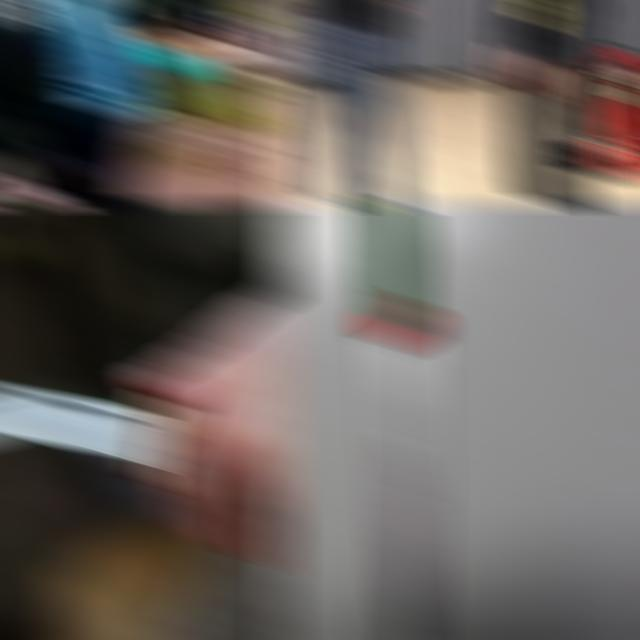Knife: (361, 201, 437, 640), (0, 381, 200, 490)
Knife_Handle: (0, 283, 292, 578)
